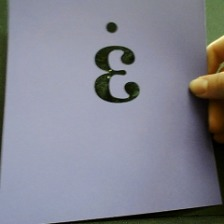violet3: (82, 16, 149, 108)
